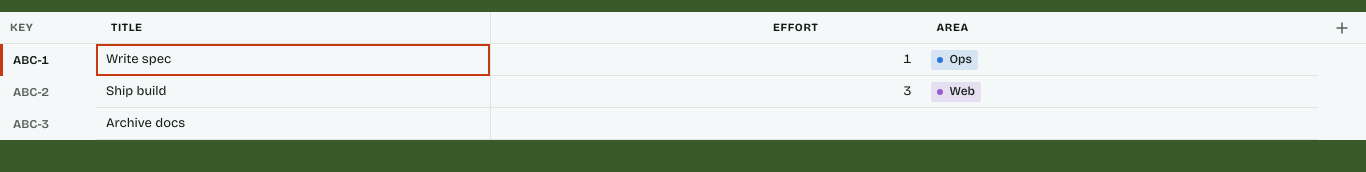
Test case: TableView › esc_while_editing_restores_without_api_call
The width and height of the screenshot is (1366, 172).
Expected: the row "ABC-1 Write spec 1 Ops" is shown, [0,44,1365,76]
Click the cell "1" at (706, 60), box [490,44,922,76]
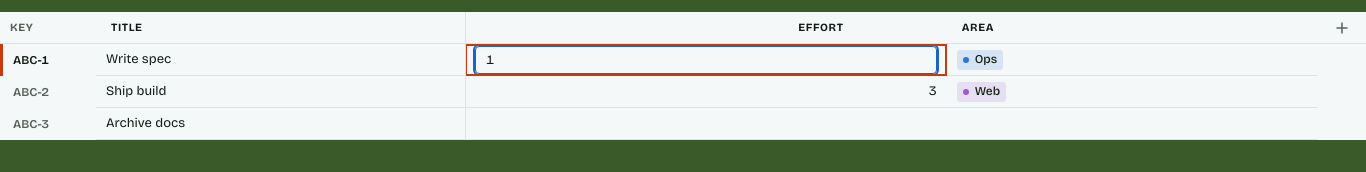
Replace the text in the field named "Effort" with "9" at (706, 60), box [475,46,937,74]
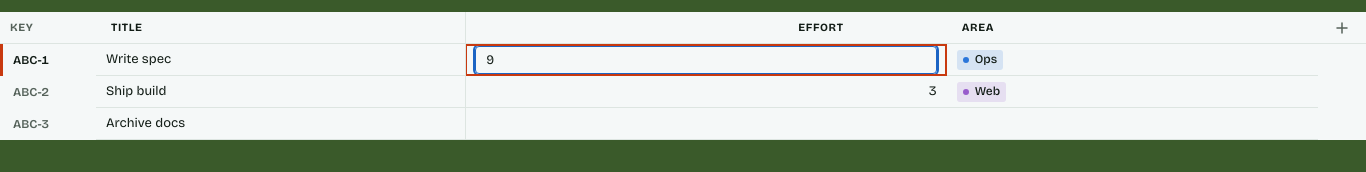
Press Escape in the field named "Effort", box [475,46,937,74]
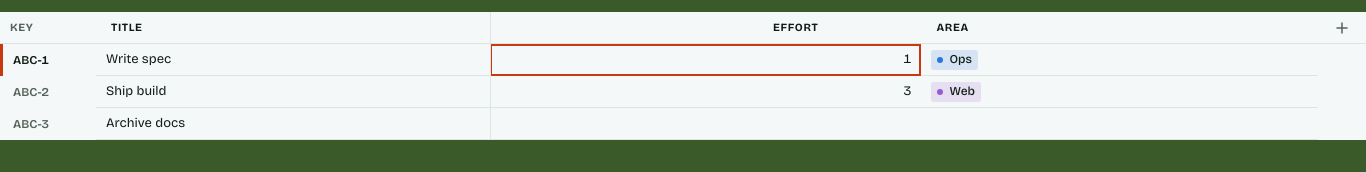
Now the field is gone
Now the cell "1" is shown, box [490,44,922,76]
